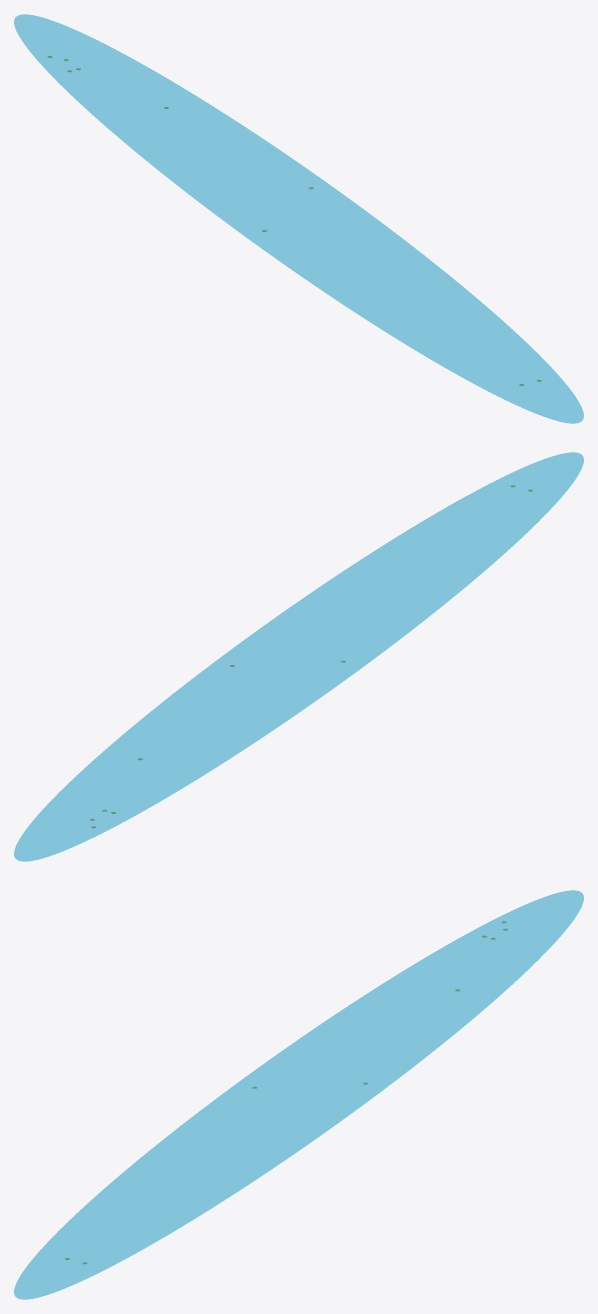
The model's file is MDV-terrain.glb.
3 views of the same model, one above another, from view 1: azimuth 30°, elevation 25°; view 2: azimuth 150°, elevation 25°; view 3: azimuth 330°, elevation 25° (orthographic).
Parts seen in each view (by area): view 1: Relevo com hidrografia; view 2: Relevo com hidrografia; view 3: Relevo com hidrografia.
Boxes of the visible parts, box(x1,y1,x2,y2) form: Relevo com hidrografia: box(14, 14, 583, 423); Relevo com hidrografia: box(14, 452, 583, 861); Relevo com hidrografia: box(14, 890, 583, 1299).
Size of the model in its own units: 0.2033 by 0.00201 by 1.68.
2 materials, 1 textured.
